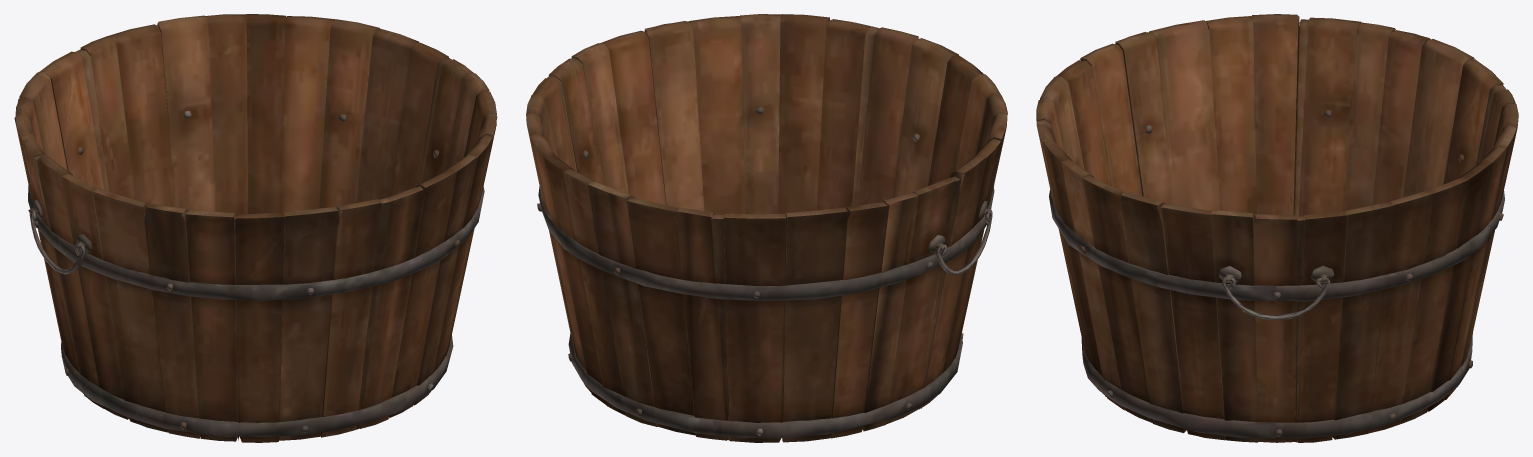
File: wooden_bucket_02.glb
3 renders of one model, left to right at view 1: azimuth 30°, elevation 25°; view 2: azimuth 150°, elevation 25°; view 3: azimuth 270°, elevation 25°, orthographic.
Parts seen in each view (by area): view 1: wooden_bucket_02; view 2: wooden_bucket_02; view 3: wooden_bucket_02.
Boxes of the visible parts, box(x1,y1,x2,y2) form: wooden_bucket_02: box(14, 14, 497, 442); wooden_bucket_02: box(526, 14, 1007, 442); wooden_bucket_02: box(1036, 14, 1518, 442).
Bounding box in the file's own units: 0.6139 × 0.3509 × 0.6146.
1 material, 1 textured.
